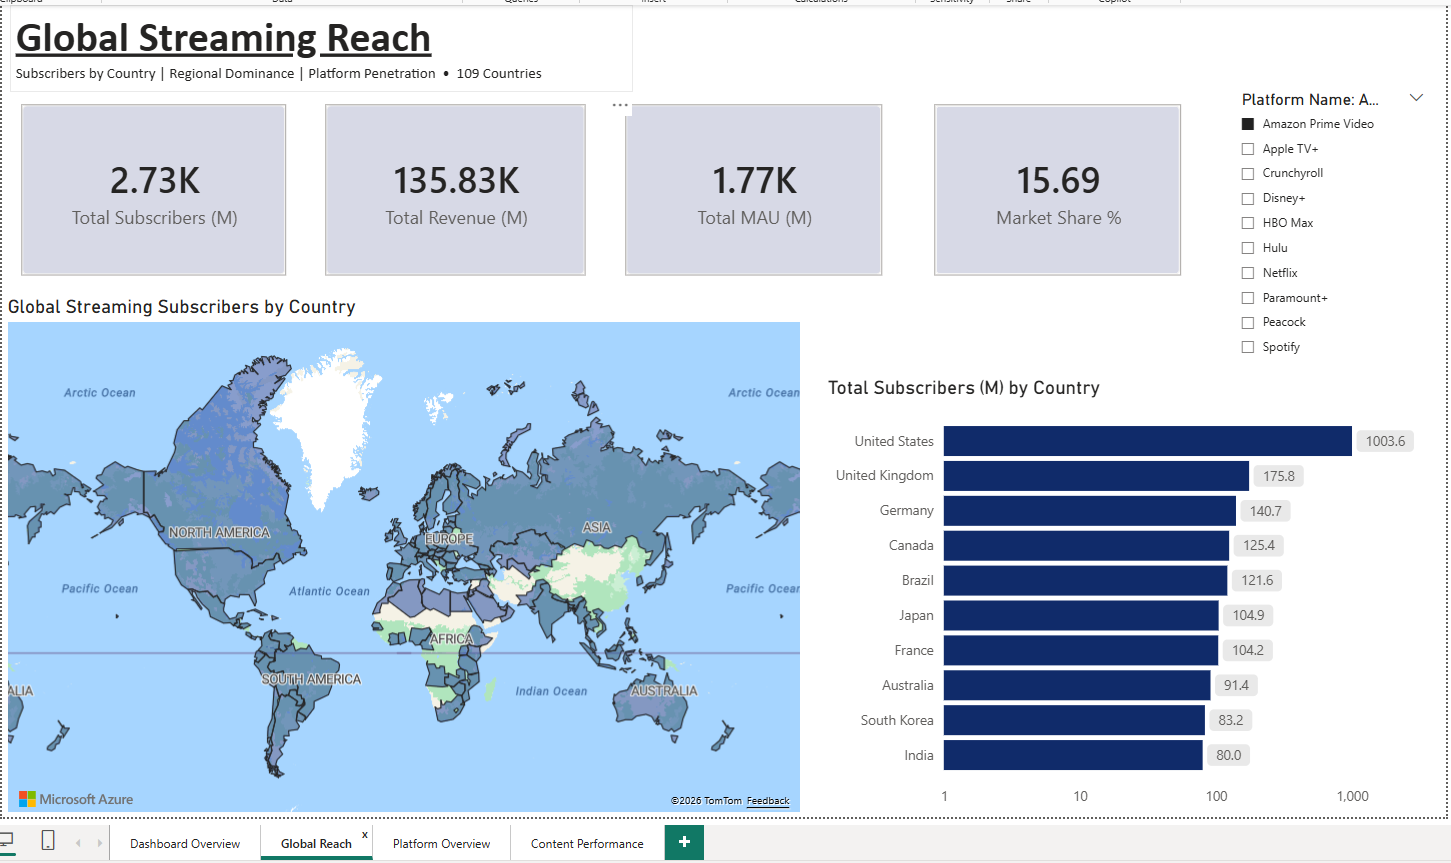

This screenshot's page, from the dashboard's own definition file:
{"tool":"powerbi","page":{"name":"Global Reach","canvas":[1280,720],"ordinal":1},"visuals":[{"type":"cardVisual","fields":{"Data":["Fact_Subscribers.Total Subscribers (M)"]},"box":[0,71,269.5,186.6],"z":0},{"type":"azureMap","title":"Global Streaming Subscribers by Country","fields":{"Category":["Dim_Countries.Country_Name"]},"box":[0,257,713,463],"z":1000},{"type":"cardVisual","fields":{"Data":["Fact_Subscribers.Total MAU (M)"]},"box":[535.3,71,262.2,186.6],"z":2000},{"type":"clusteredBarChart","title":"Total Subscribers (M) by Country","fields":{"Category":["Dim_Countries.Country_Name"],"Y":["Fact_Subscribers.Total Subscribers (M)"]},"box":[726.7,328.9,553.3,391.1],"z":3000},{"type":"cardVisual","fields":{"Data":["Fact_Subscribers.Total Revenue (M)"]},"box":[269.5,71,265.8,186.6],"z":4000},{"type":"slicer","fields":{"Values":["Dim_Platforms.Platform_Name"]},"box":[1086.1,71,186.6,258.5],"z":5000},{"type":"textbox","box":[7.3,0,552.6,77.4],"z":6000},{"type":"cardVisual","fields":{"Data":["Fact_Subscribers.Market Share %"]},"box":[809.3,71,253.1,186.6],"z":7000}]}

Visuals, with their boxes on the page's 1280x720 design canvas (x1, y1, x2, y2). These are canvas units, not pixel positions in the 1451x863 screenshot, which may show the page scaled, cropped or inside an application window:
cardVisual - Fact_Subscribers.Total Subscribers (M): 0 71 270 258
"Global Streaming Subscribers by Country" azureMap: 0 257 713 720
cardVisual - Fact_Subscribers.Total MAU (M): 535 71 798 258
"Total Subscribers (M) by Country" clusteredBarChart: 727 329 1280 720
cardVisual - Fact_Subscribers.Total Revenue (M): 270 71 535 258
slicer - Dim_Platforms.Platform_Name: 1086 71 1273 330
textbox: 7 0 560 77
cardVisual - Fact_Subscribers.Market Share %: 809 71 1062 258
